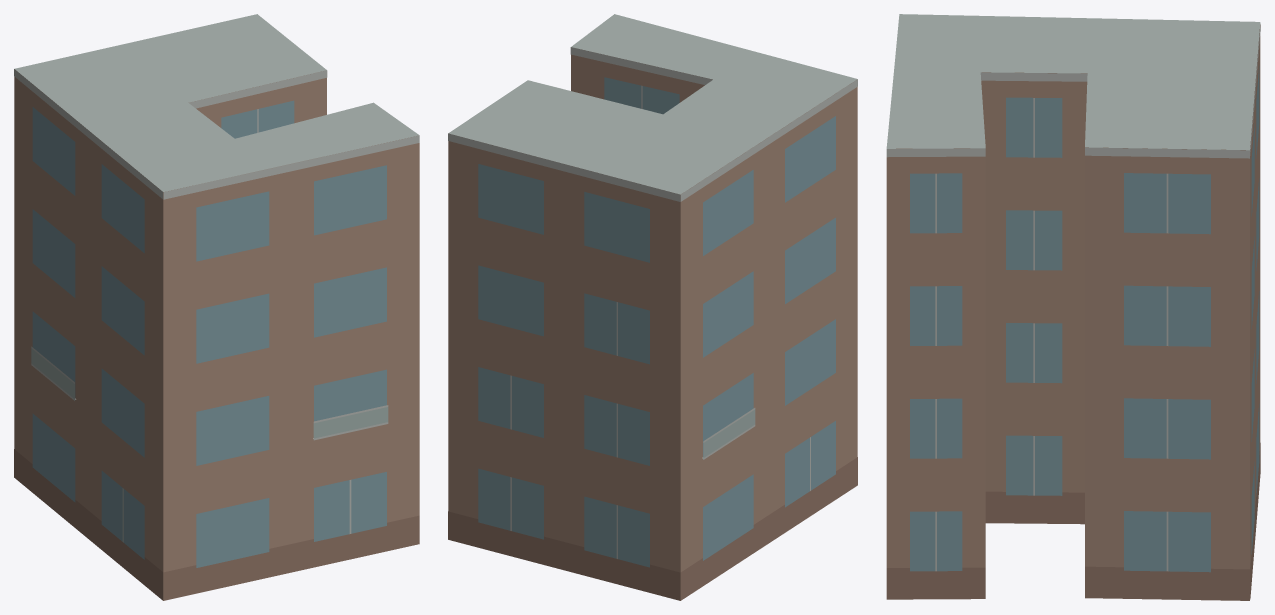
File: survey-upis-32471756.glb
The picture shows the model from 3 angles, left to right: view 1: azimuth 30°, elevation 25°; view 2: azimuth 150°, elevation 25°; view 3: azimuth 270°, elevation 25°; orthographic projection. The views are drawn at different scales.
Parts seen in each view (by area): view 1: survey-upis-32471756.tmp; view 2: survey-upis-32471756.tmp; view 3: survey-upis-32471756.tmp.
Boxes of the visible parts, x1,y1,x2,y2 form: survey-upis-32471756.tmp: (14, 14, 419, 600); survey-upis-32471756.tmp: (448, 14, 857, 600); survey-upis-32471756.tmp: (886, 14, 1260, 600).
Size of the model in its own units: 8.56 by 13.2 by 9.93.
